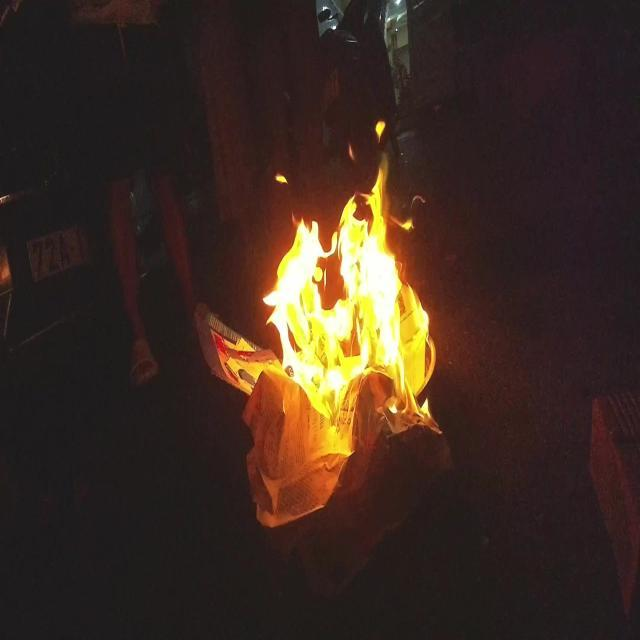Fire: (247, 117, 437, 463)
